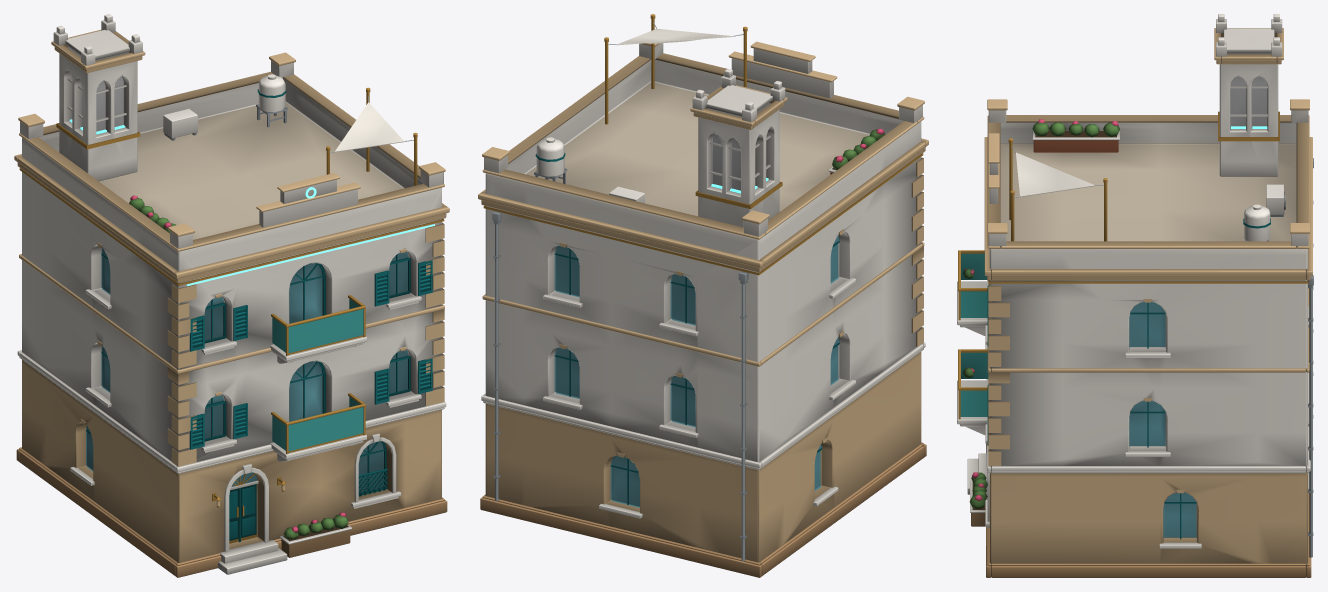
Rendered from bldg_house_b.fbx.
3 renders of one model, left to right at view 1: azimuth 30°, elevation 25°; view 2: azimuth 150°, elevation 25°; view 3: azimuth 270°, elevation 25°, orthographic. The views are drawn at different scales.
Visible parts, largest first — view 1: bldg_house_b; view 2: bldg_house_b; view 3: bldg_house_b.
Boxes of the visible parts, box(x1,y1,x2,y2) form: bldg_house_b: box(14, 14, 449, 577); bldg_house_b: box(478, 14, 928, 577); bldg_house_b: box(957, 14, 1313, 577).
Bounding box in the file's own units: 9.76 × 15 × 10.93.
